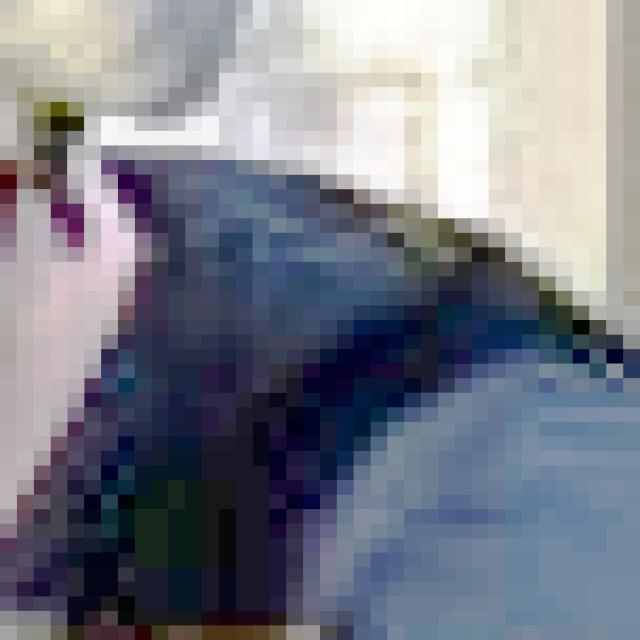arms: (0, 407, 101, 640)
